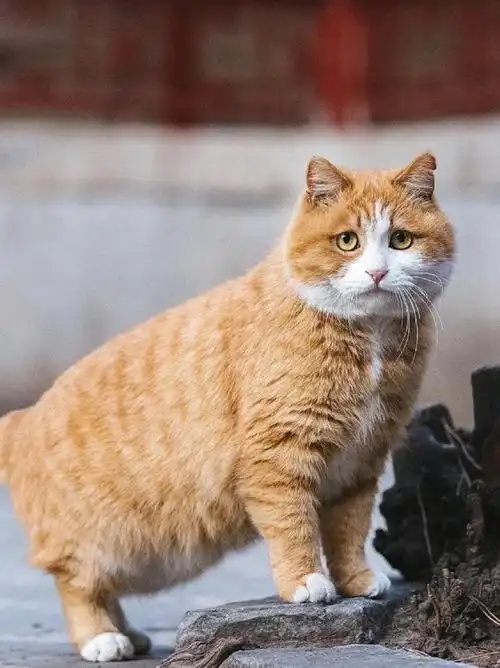橘猫: (2, 254, 428, 643), (245, 153, 452, 473)
